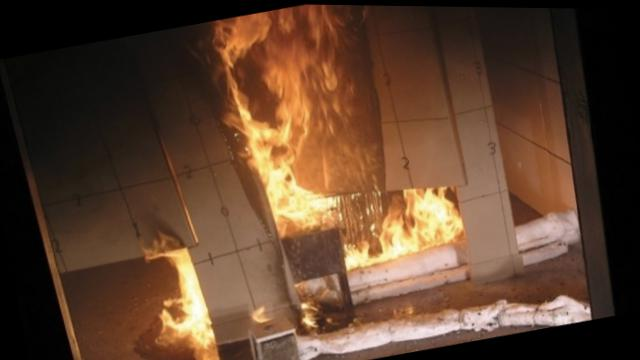fire: (84, 0, 520, 357)
